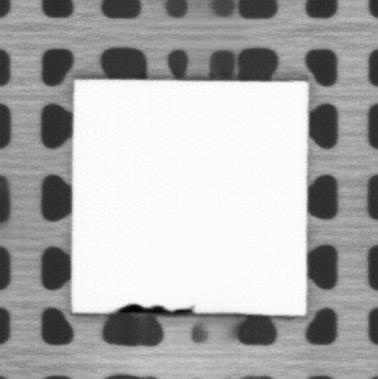DIE_BROKEN: (116, 302, 195, 316)
